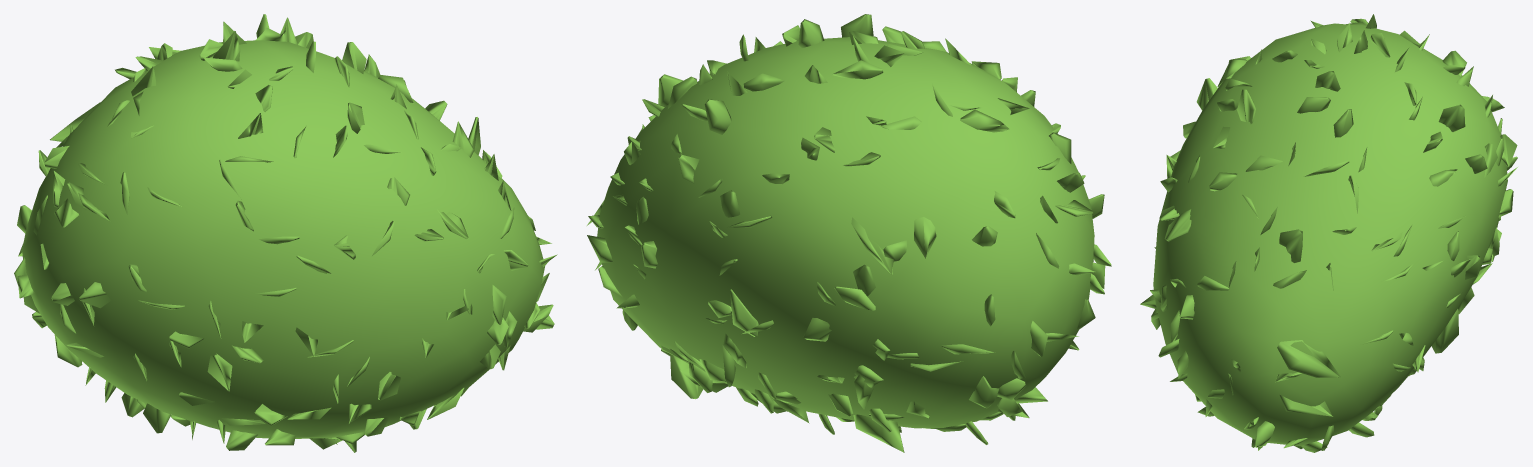
Rendered from Bush.fbx.
3 views of the same model, side by side, from view 1: azimuth 30°, elevation 25°; view 2: azimuth 150°, elevation 25°; view 3: azimuth 270°, elevation 25° (orthographic). The views are drawn at different scales.
Parts seen in each view (by area): view 1: BushBundle; view 2: BushBundle; view 3: BushBundle.
Part boxes in pixels (x1,y1,x2,y2): BushBundle: [14, 14, 557, 452]; BushBundle: [587, 14, 1111, 452]; BushBundle: [1140, 14, 1517, 452].
Bounding box in the file's own units: 0.0871 × 0.069 × 0.0633.
